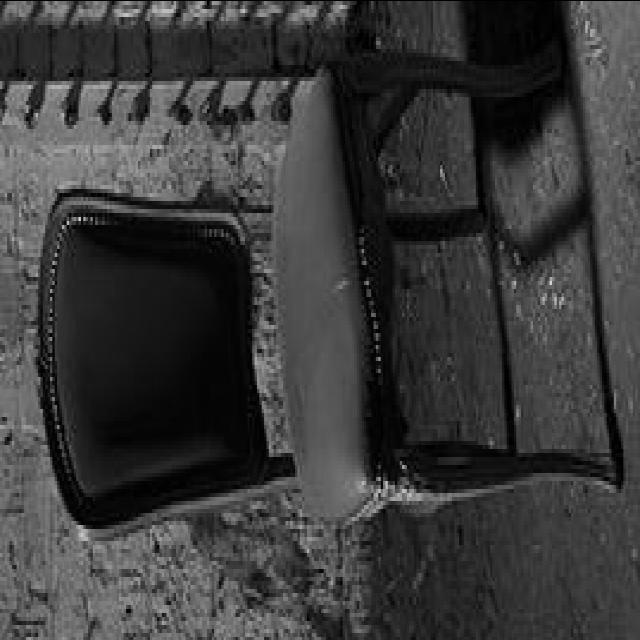chair: (34, 49, 620, 548)
